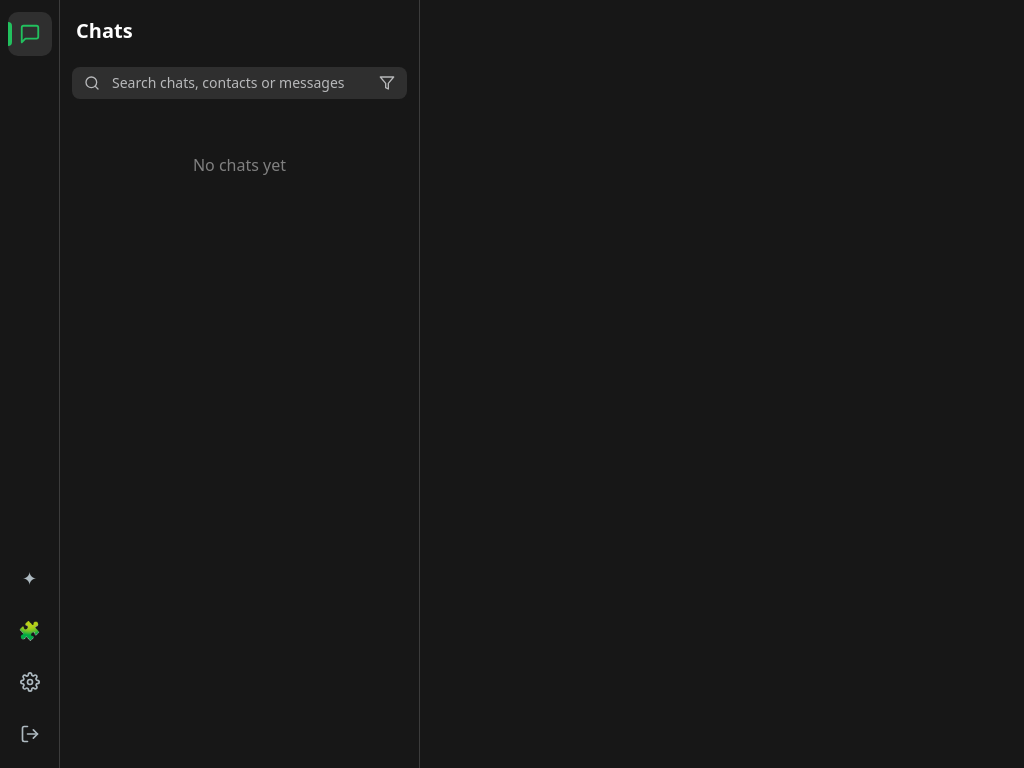
Test case: ChatList indexing (B-UICHAT-14) › shows a toast and does not start indexing when clearVectors rejects
The image size is (1024, 768).
Click the button titled "Index for Semantic Search": (30, 578) [8,556,52,600]
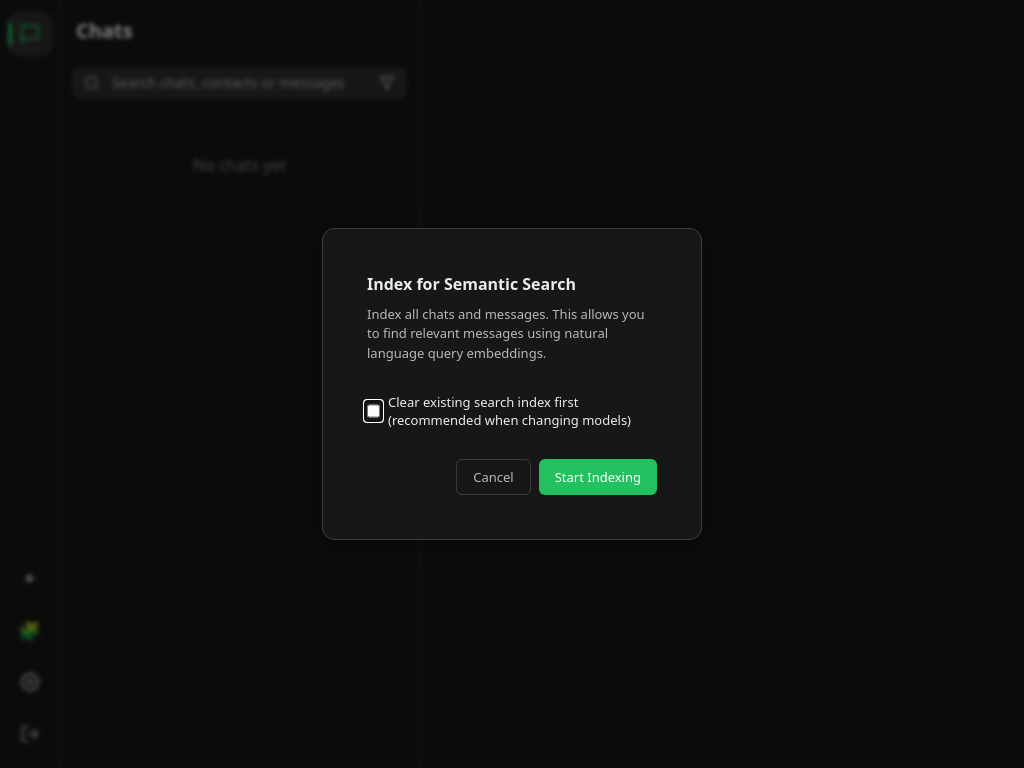
Click the checkbox with id "clear-vectors-checkbox": (374, 411) [367,403,380,419]
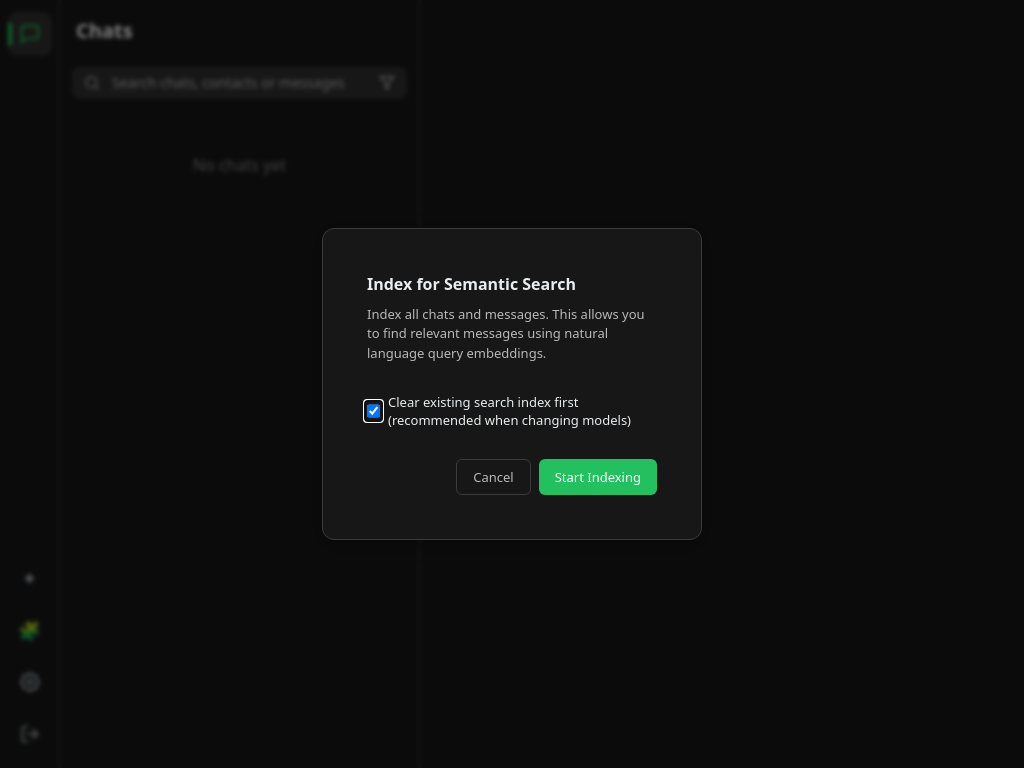
Click the button "Start Indexing": (598, 477) [539,459,657,495]
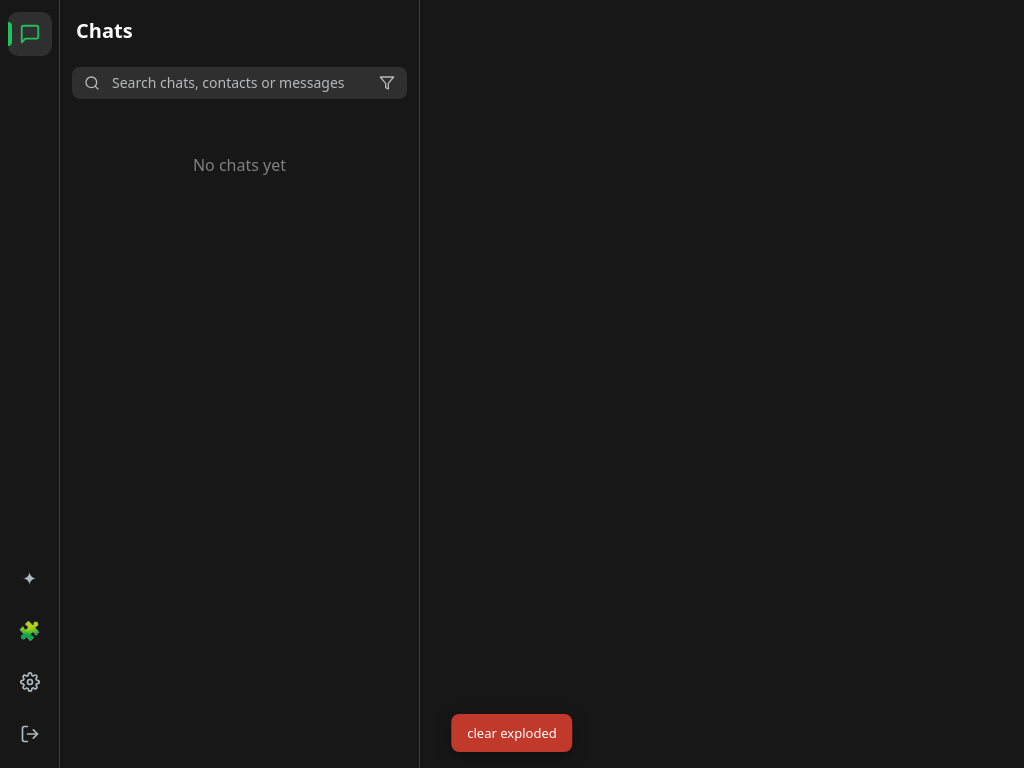
Expected: the message reads "clear exploded", [467,724,557,742]
